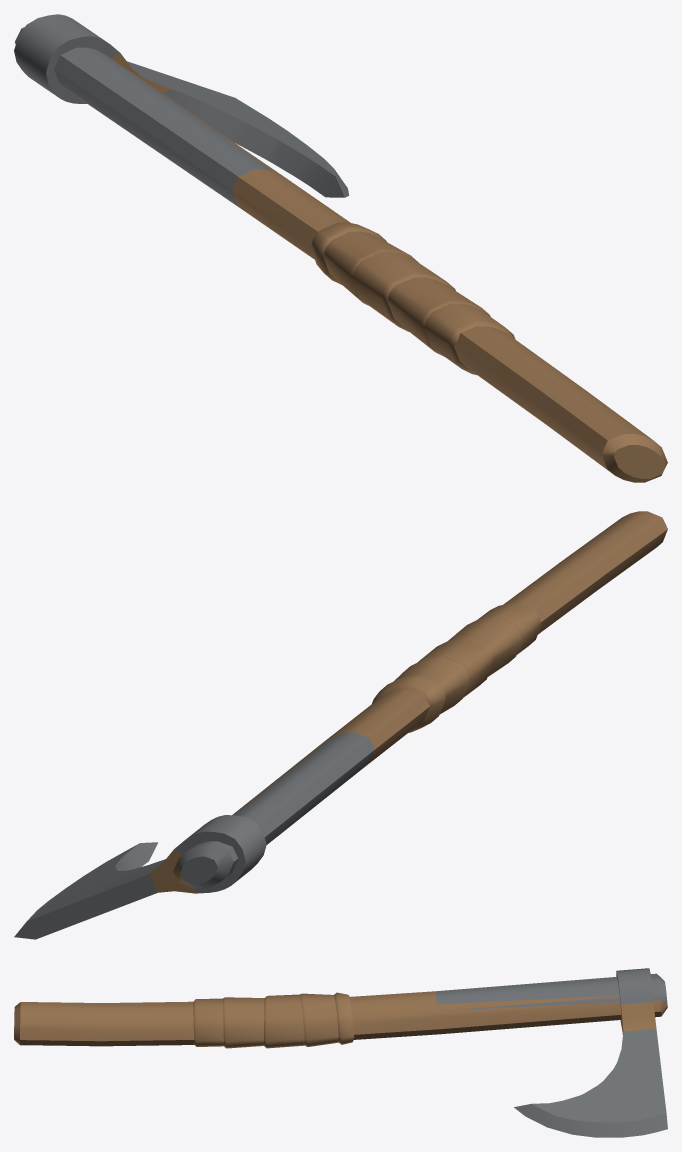
Rendered from w_balta.glb.
3 views of the same model, one above another, from view 1: azimuth 30°, elevation 25°; view 2: azimuth 150°, elevation 25°; view 3: azimuth 270°, elevation 25° (orthographic). The views are drawn at different scales.
Parts seen in each view (by area): view 1: body; view 2: body; view 3: body.
Boxes of the visible parts, x1=… form: body: x1=14, y1=14, x2=667, y2=482; body: x1=14, y1=511, x2=667, y2=939; body: x1=14, y1=968, x2=667, y2=1137.
Size of the model in its own units: 0.1254 by 0.0776 by 0.46.
